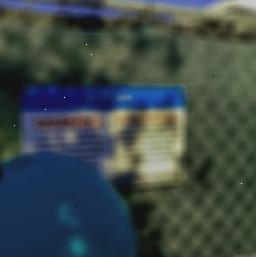algae: (0, 149, 138, 257)
